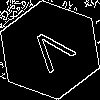V: (25, 25, 84, 82)
